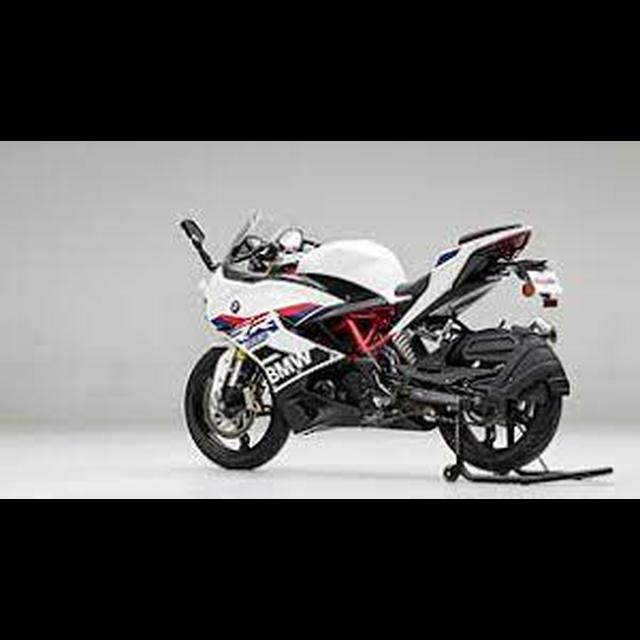motorcycle: (181, 201, 574, 476)
